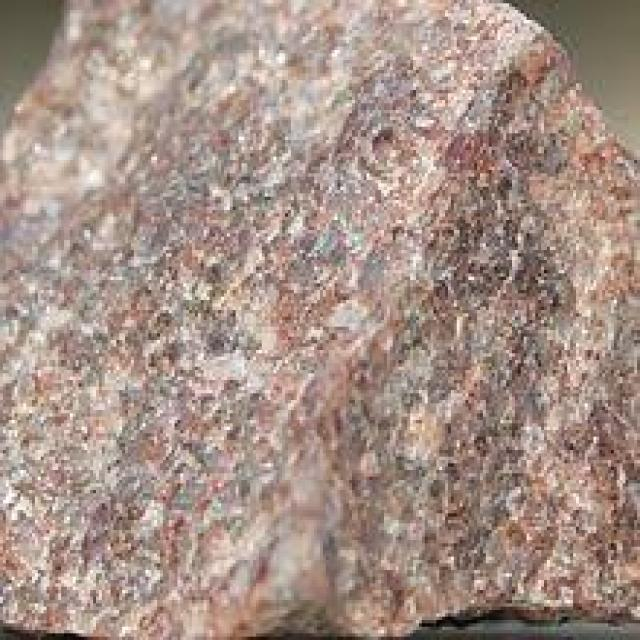Metamorphic: (3, 3, 634, 627)
